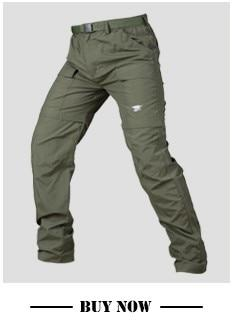pants: (30, 13, 207, 273)
